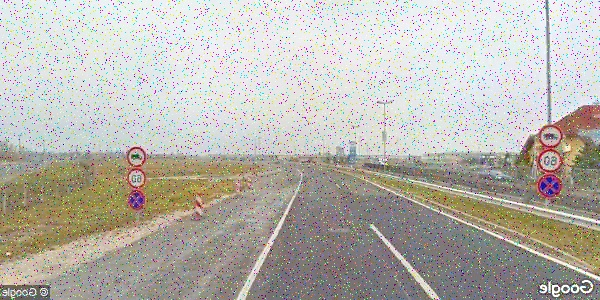b_speed_limit: (536, 148, 564, 174), (127, 169, 145, 189)
e_no_stop_park: (536, 172, 563, 197), (126, 189, 145, 212)
f_others: (539, 124, 563, 148), (126, 145, 147, 168)
